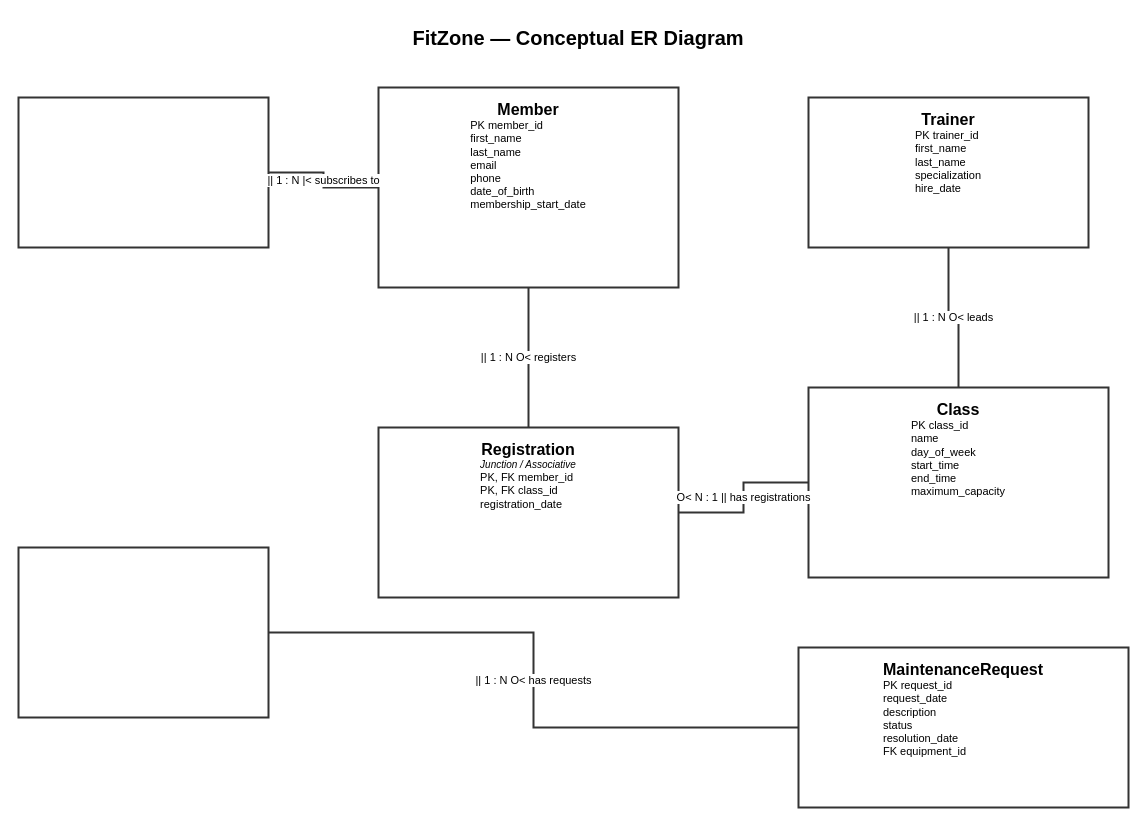
Image size: 1146x825. Some labels were removed from this diagram. Here are the shapes that lost their labels. From the top down, the centre of each, then its label:
the point at 143,172: MembershipPlan PK plan_id name monthly_price description
the point at 143,632: Equipment PK equipment_id name type purchase_date status
